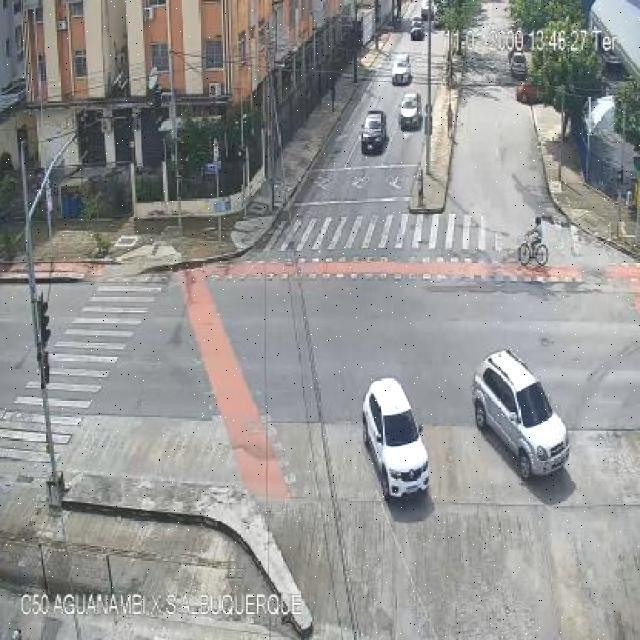Car: (472, 349, 572, 480), (362, 378, 430, 500), (359, 110, 386, 152), (398, 92, 423, 130), (391, 54, 411, 85), (509, 52, 528, 79), (410, 22, 426, 40)
Cycle: (517, 231, 550, 265)
